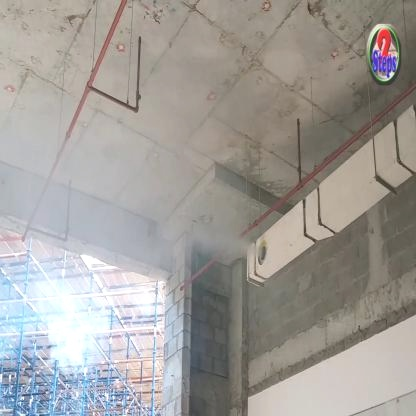smoke: (42, 243, 95, 379)
